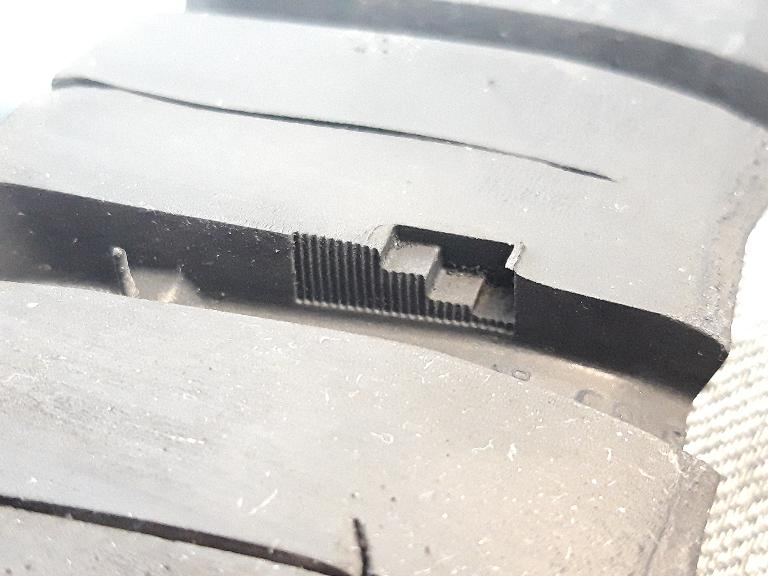temoin:75: (328, 210, 532, 342)
